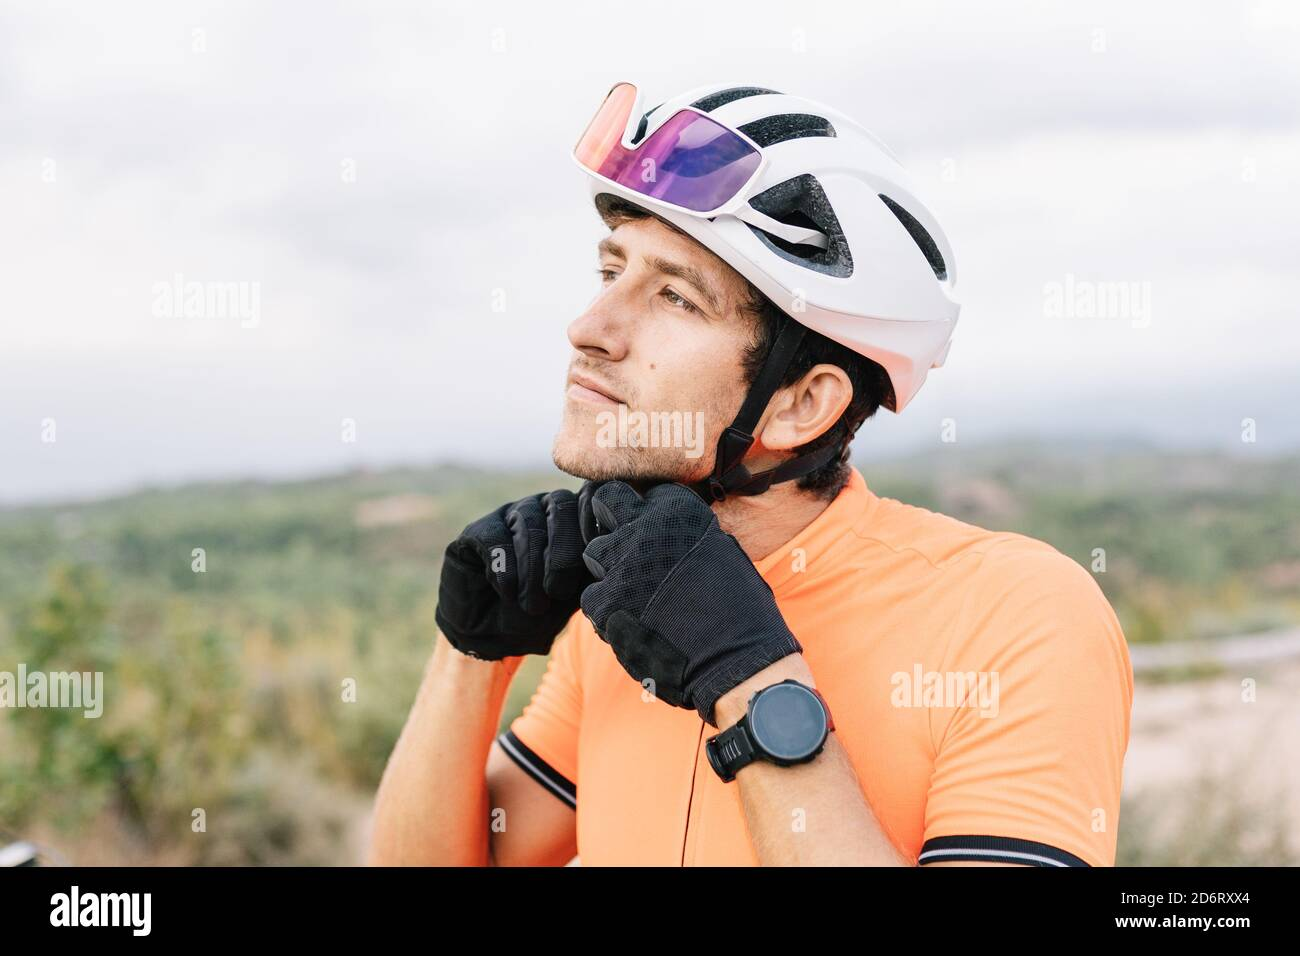helmet: (552, 82, 962, 479)
